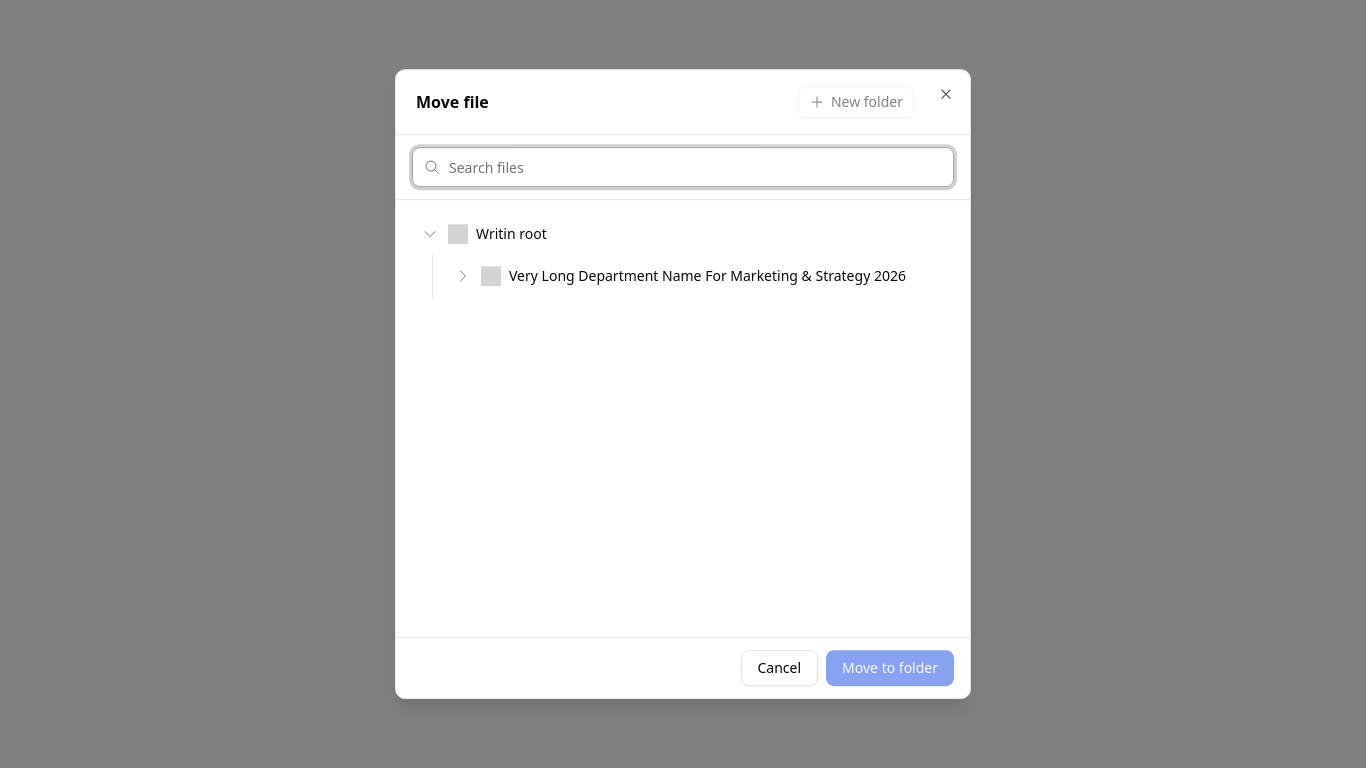
MoveItemDialog › renders nested folders with responsive indentation and touch-friendly chevron controls
Click the button named "Expand Very Long Department" at (463, 276), box [449,262,477,290]
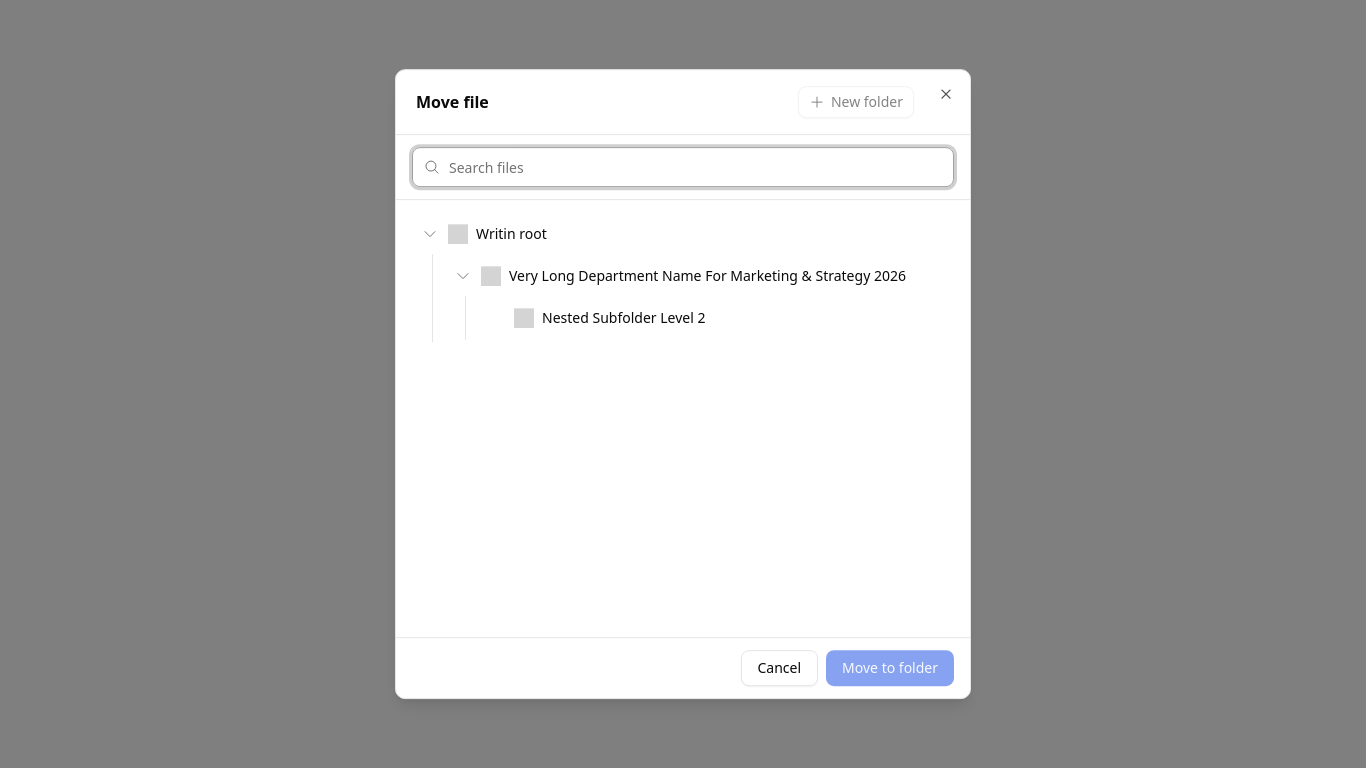
Check: the text titled "Very Long Department Name For Marketing & Strategy 2026" is shown, box [509,266,906,286]
Check: the element "Nested Subfolder Level 2" is shown, box [465,296,950,340]
